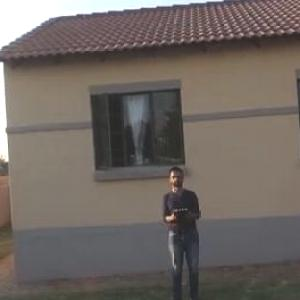follow: (159, 159, 209, 299)
